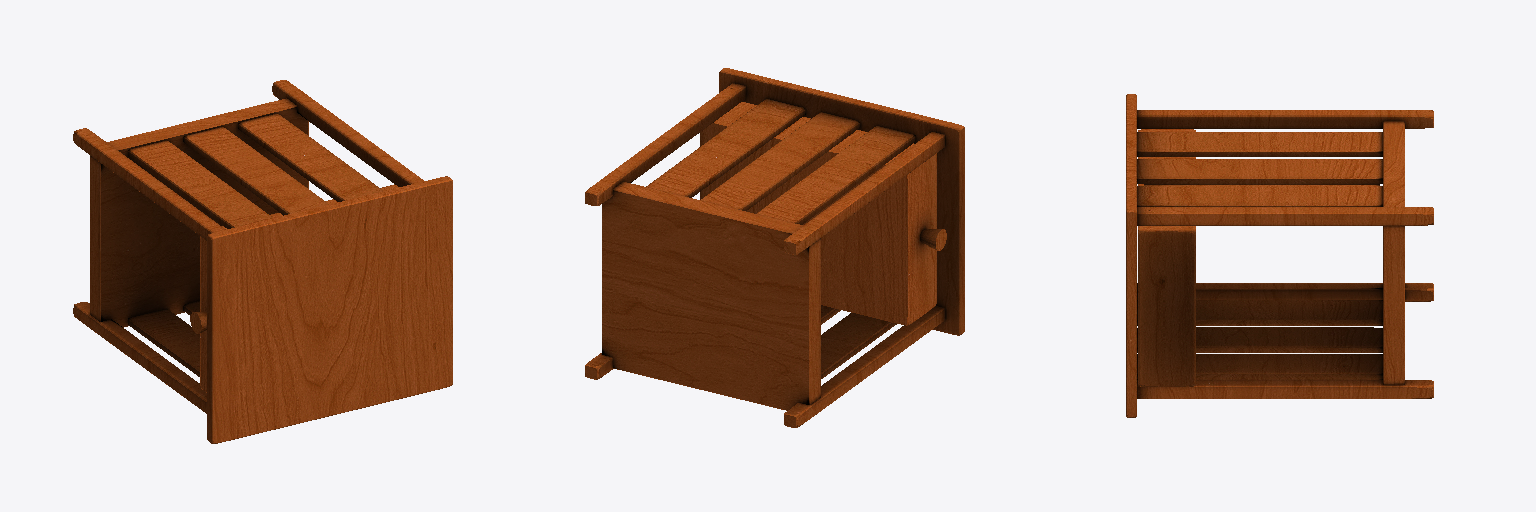
3 views of the same model, side by side, from view 1: azimuth 30°, elevation 25°; view 2: azimuth 150°, elevation 25°; view 3: azimuth 270°, elevation 25° (orthographic).
Visible parts, largest first — view 1: 10238_Night_Stand_v1; view 2: 10238_Night_Stand_v1; view 3: 10238_Night_Stand_v1.
Part boxes in pixels (left/top/right/bottom): 10238_Night_Stand_v1: left=73, top=80, right=452, bottom=443; 10238_Night_Stand_v1: left=585, top=68, right=964, bottom=427; 10238_Night_Stand_v1: left=1126, top=94, right=1433, bottom=417.
Bounding box in the file's own units: 56 × 46 × 61.89.
1 materials, 1 textured.